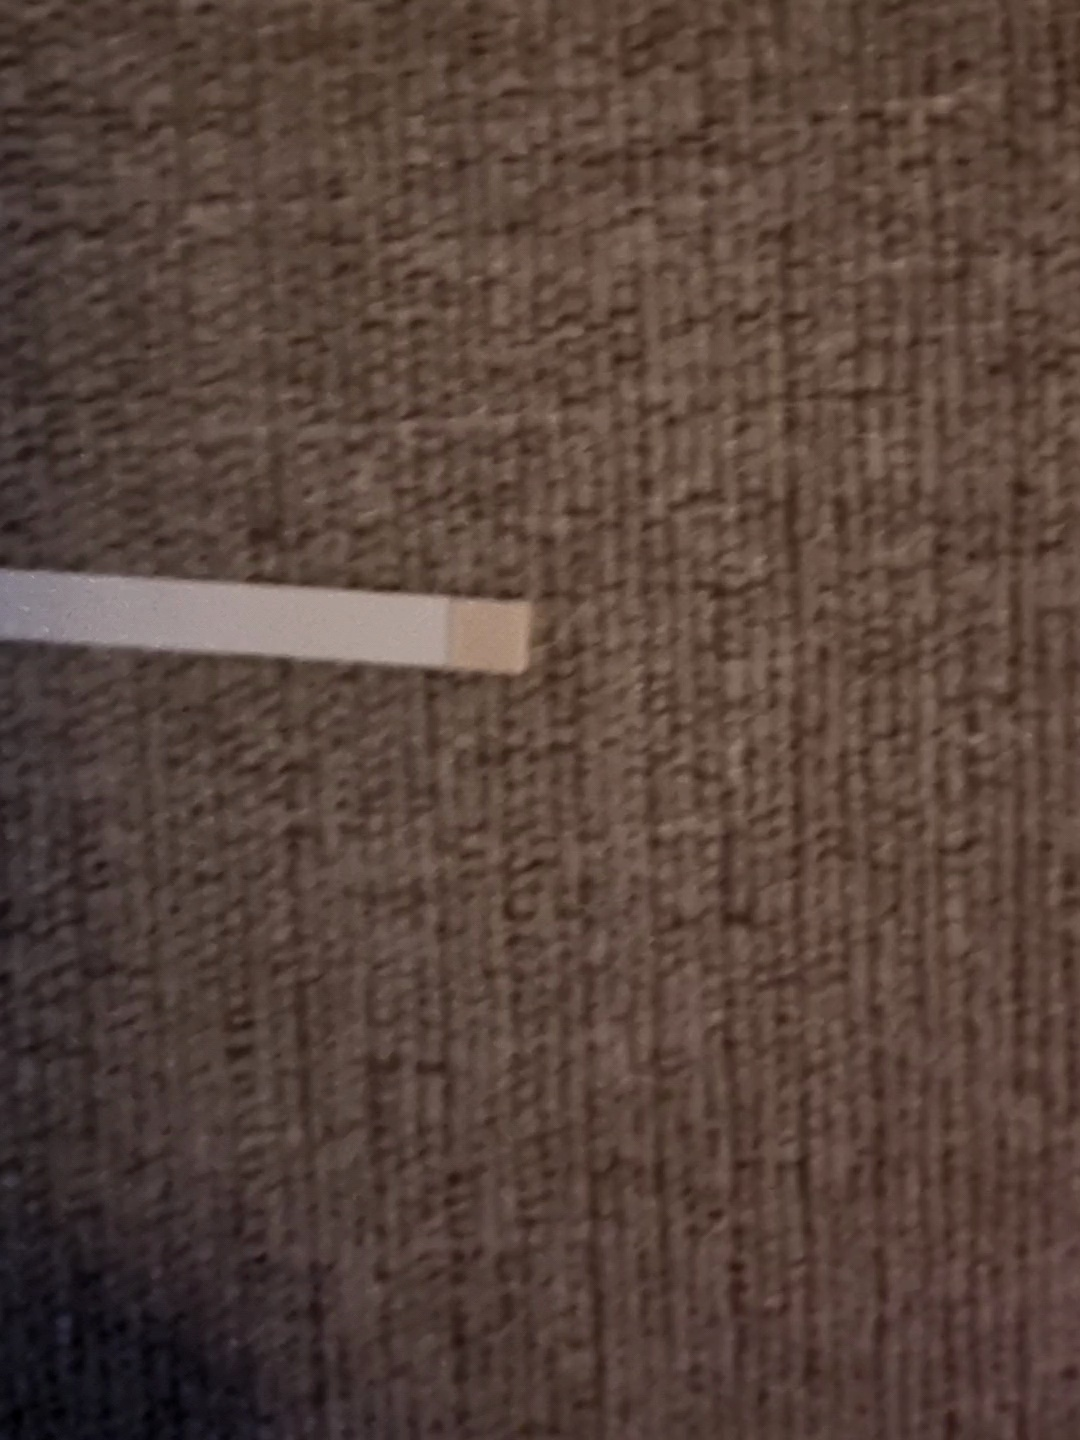keto-tip: (439, 586, 535, 681)
